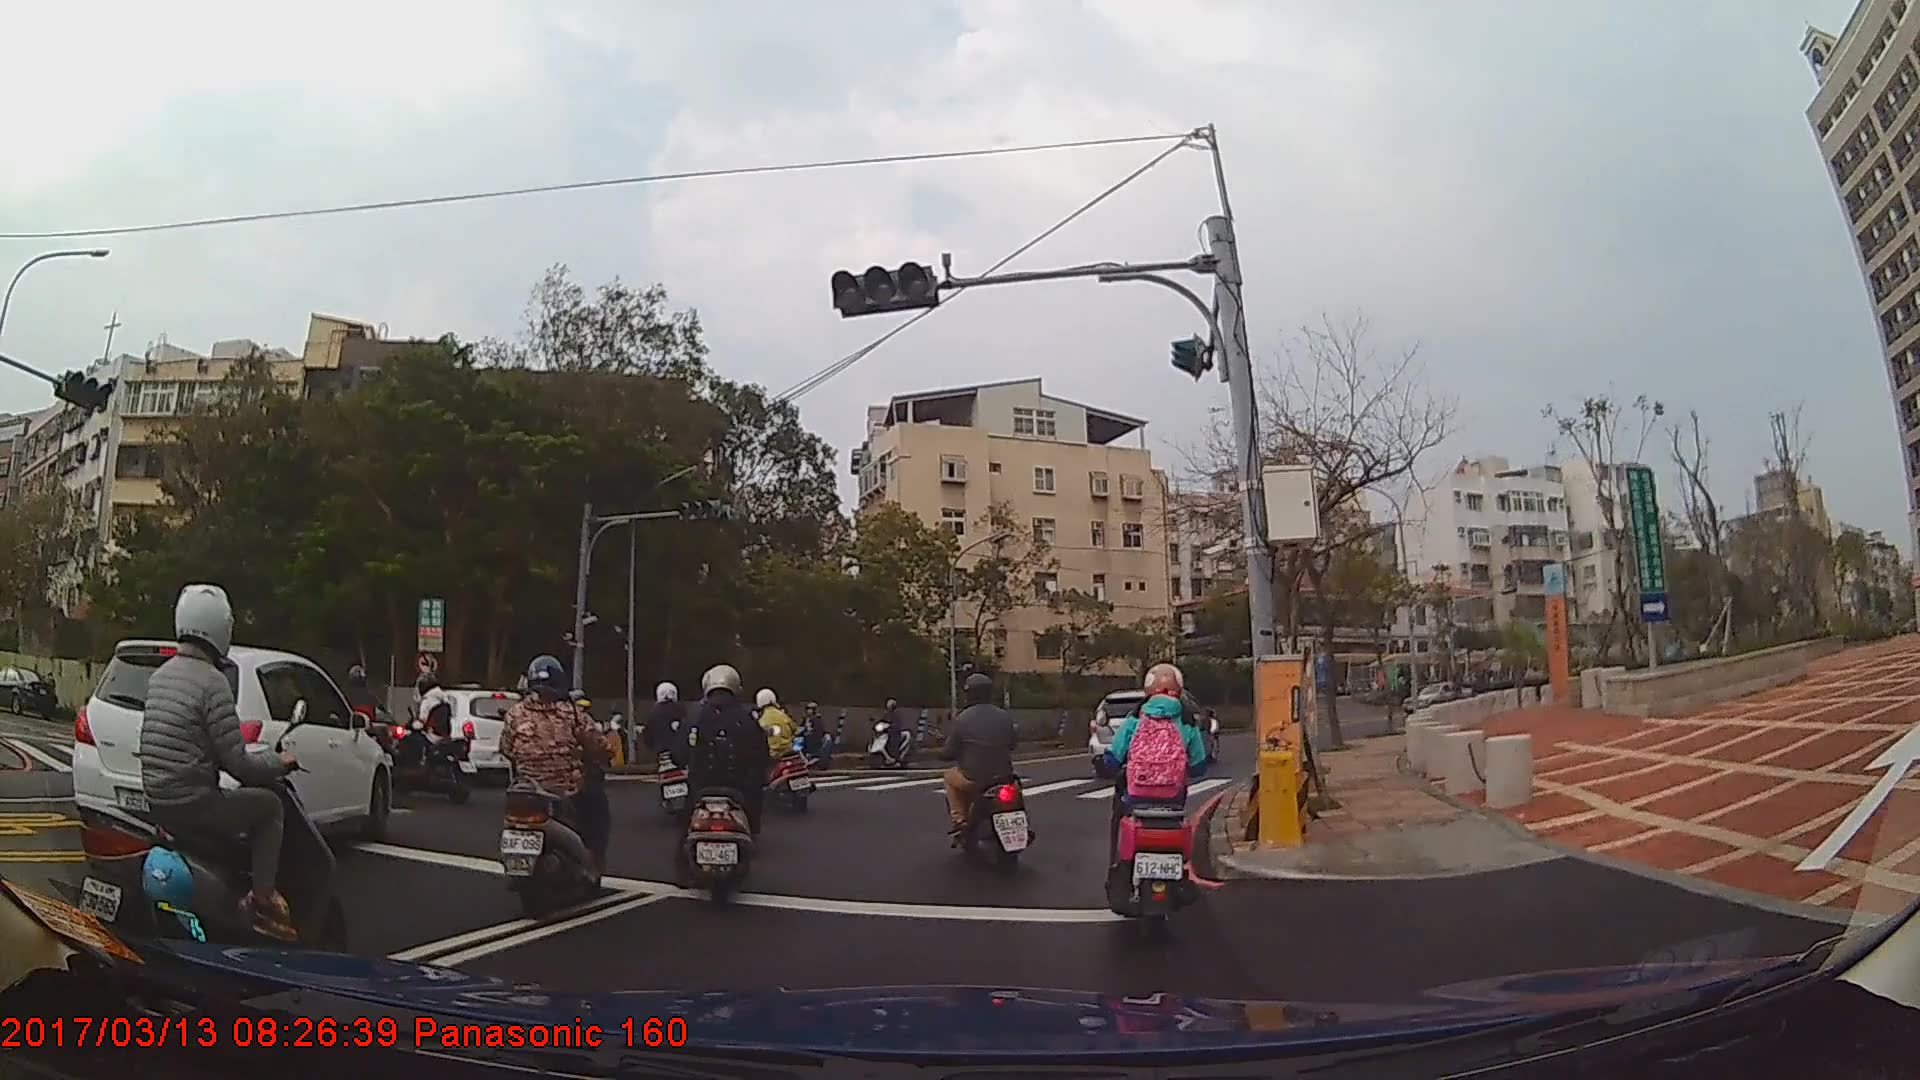rider: (66, 585, 350, 990), (498, 655, 620, 922), (1104, 660, 1213, 932), (673, 665, 771, 909), (938, 671, 1031, 873), (632, 680, 706, 827), (744, 689, 820, 817), (329, 660, 395, 793), (394, 669, 460, 787), (865, 699, 916, 767), (791, 701, 832, 766)
vehicle: (72, 640, 391, 864), (397, 684, 532, 782), (1086, 684, 1216, 773), (0, 662, 57, 718)
